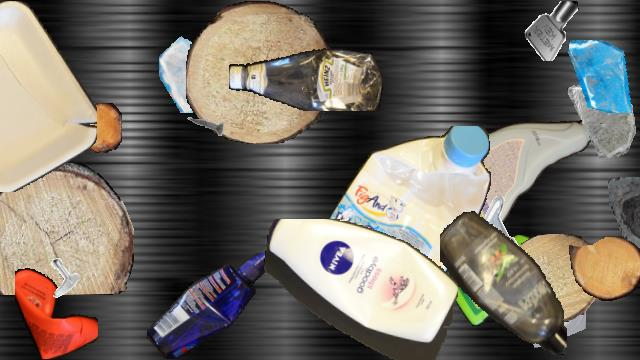glass: (159, 29, 243, 113), (565, 84, 639, 158), (565, 40, 637, 112), (327, 199, 389, 261), (605, 177, 640, 271), (529, 291, 585, 347)
metal: (473, 194, 535, 256), (523, 1, 583, 61), (39, 256, 83, 300), (184, 106, 224, 146), (0, 147, 25, 193)
plastic: (308, 126, 494, 332), (262, 219, 458, 359), (420, 114, 594, 242), (440, 209, 566, 359), (0, 1, 96, 191), (146, 253, 276, 359), (229, 43, 383, 111), (446, 234, 556, 326), (15, 265, 97, 359)
wood: (186, 1, 330, 143), (0, 163, 133, 295), (503, 234, 601, 322), (569, 237, 640, 301), (0, 93, 54, 169), (79, 103, 121, 153)
